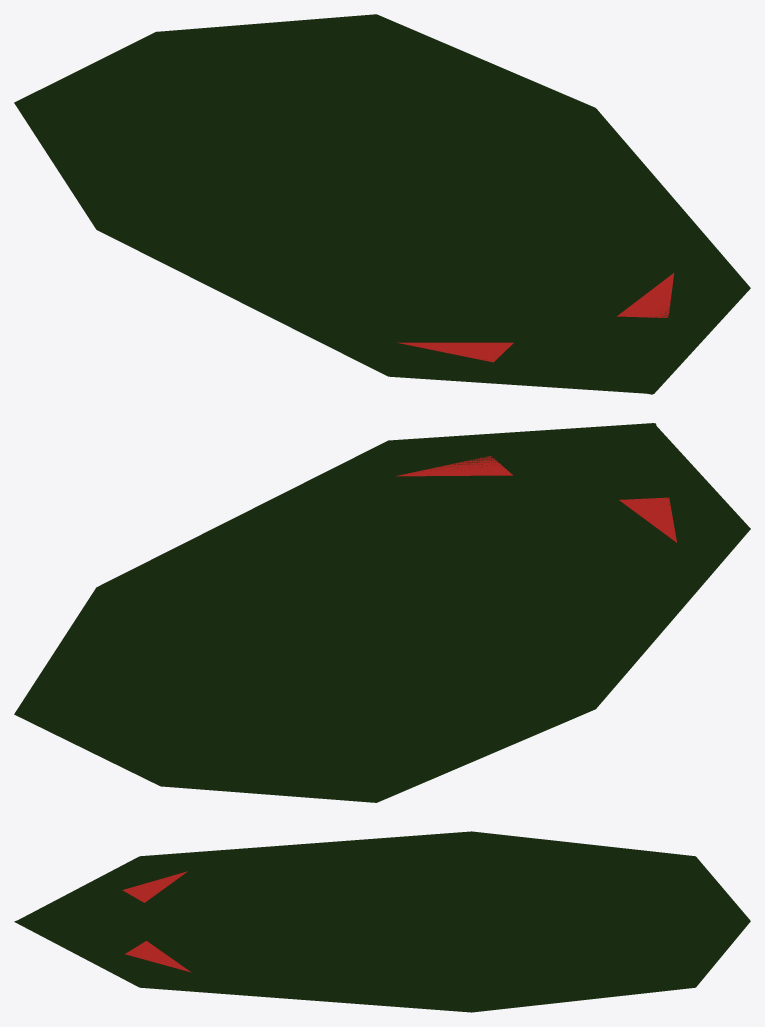
Rendered from wrongDuck.fbx.
3 views of the same model, one above another, from view 1: azimuth 30°, elevation 25°; view 2: azimuth 150°, elevation 25°; view 3: azimuth 270°, elevation 25° (orthographic). The views are drawn at different scales.
Visible parts, largest first — view 1: Duck.001; view 2: Duck.001; view 3: Duck.001.
Boxes of the visible parts, x1=… form: Duck.001: x1=14, y1=14, x2=750, y2=394; Duck.001: x1=14, y1=423, x2=750, y2=802; Duck.001: x1=14, y1=831, x2=750, y2=1012.
Size of the model in its own units: 45.89 by 1.62e-05 by 78.92.
